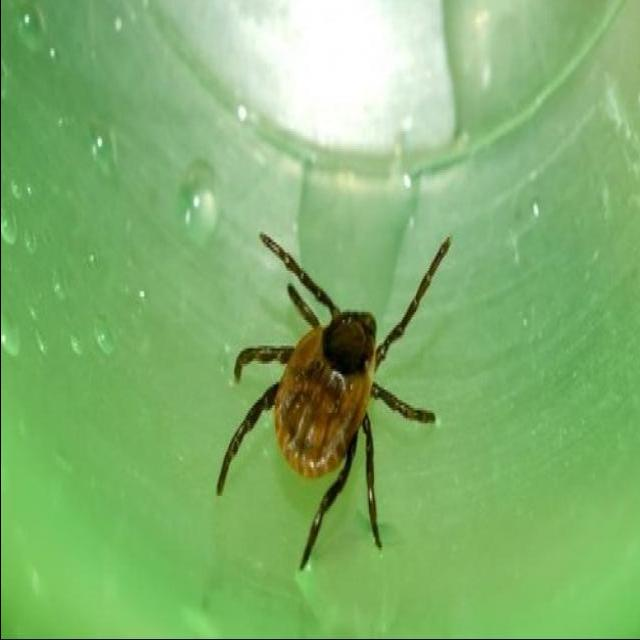Rhipicephalus Sanguineus-F: (217, 235, 448, 567)
